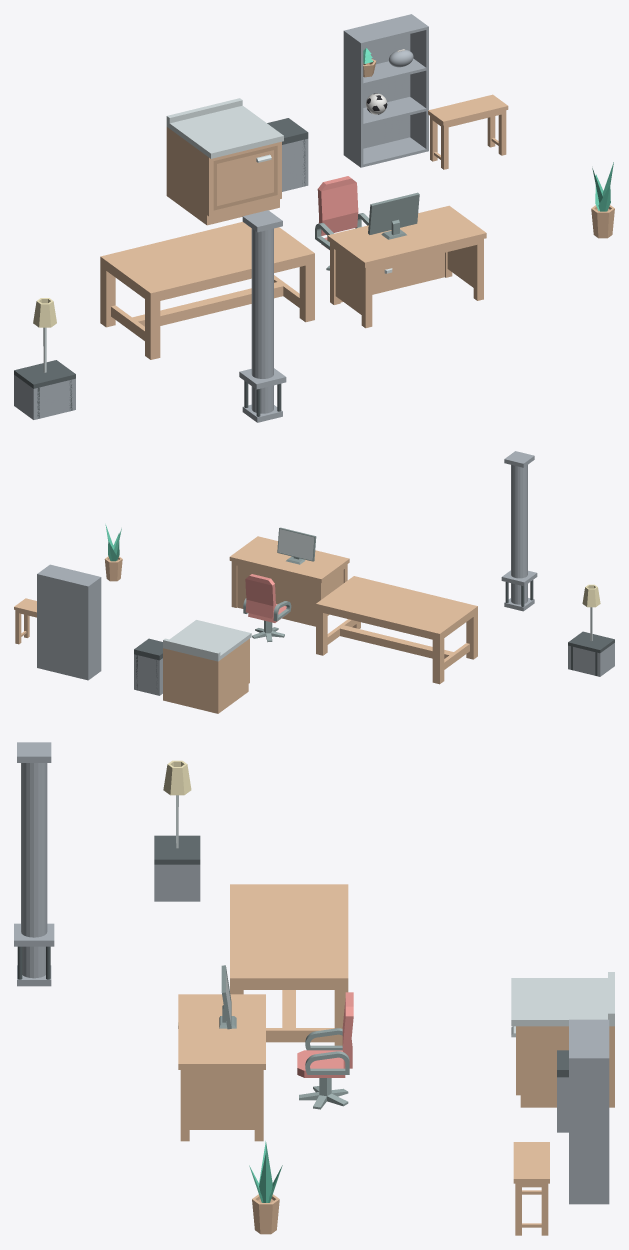
The picture shows the model from 3 angles, top to bottom: view 1: azimuth 30°, elevation 25°; view 2: azimuth 150°, elevation 25°; view 3: azimuth 270°, elevation 25°; orthographic projection. The views are drawn at different scales.
Parts seen in each view (by area): view 1: table_green__table(Clone), desk_blue__desk(Clone), cabinet_blue__kitchenCabinet(Clone), column_cyan__column_cyan shaft, cabinet_blue__door, sidetable_brown__sideTable(Clone), shelf_orange__shelf_orange back, shelf_orange__shelf_orange side_l, deskchair_black__chair, crate_red__crate_red shell, shelf_orange__shelf_orange side_r, monitor_gray__computerScreen(Clone) (+10 smaller); view 2: table_green__table(Clone), cabinet_blue__kitchenCabinet(Clone), desk_blue__desk(Clone), shelf_orange__shelf_orange back, column_cyan__column_cyan shaft, deskchair_black__chair, shelf_orange__shelf_orange side_l, monitor_gray__computerScreen(Clone), crate_red__crate_red shell, bin_gray__bin_gray shell, sidetable_brown__sideTable(Clone), shelf_orange__shelf_orange board3 (+4 smaller); view 3: table_green__table(Clone), desk_blue__desk(Clone), cabinet_blue__kitchenCabinet(Clone), shelf_orange__shelf_orange side_r, column_cyan__column_cyan shaft, sidetable_brown__sideTable(Clone), deskchair_black__chair, crate_red__crate_red shell, crate_red__crate_red lid, shelf_orange__shelf_orange board3, lamp_white__lampRoundFloor(Clone), plant_pink__pottedPlant(Clone) (+5 smaller).
Part boxes in pixels (left/top/right/bottom): table_green__table(Clone): left=100, top=221, right=314, bottom=359; desk_blue__desk(Clone): left=327, top=205, right=486, bottom=328; cabinet_blue__kitchenCabinet(Clone): left=166, top=98, right=283, bottom=225; column_cyan__column_cyan shaft: left=251, top=228, right=273, bottom=413; cabinet_blue__door: left=213, top=145, right=277, bottom=210; sidetable_brown__sideTable(Clone): left=428, top=94, right=508, bottom=169; shelf_orange__shelf_orange back: left=346, top=15, right=410, bottom=148; shelf_orange__shelf_orange side_l: left=343, top=30, right=363, bottom=167; deskchair_black__chair: left=315, top=176, right=368, bottom=249; crate_red__crate_red shell: left=14, top=375, right=75, bottom=419; shelf_orange__shelf_orange side_r: left=409, top=14, right=428, bottom=151; monitor_gray__computerScreen(Clone): left=368, top=192, right=419, bottom=239; table_green__table(Clone): left=316, top=576, right=477, bottom=684; cabinet_blue__kitchenCabinet(Clone): left=163, top=620, right=251, bottom=713; desk_blue__desk(Clone): left=229, top=536, right=349, bottom=626; shelf_orange__shelf_orange back: left=39, top=574, right=86, bottom=679; column_cyan__column_cyan shaft: left=511, top=465, right=527, bottom=604; deskchair_black__chair: left=243, top=574, right=291, bottom=622; shelf_orange__shelf_orange side_l: left=86, top=576, right=101, bottom=680; monitor_gray__computerScreen(Clone): left=277, top=527, right=316, bottom=564; crate_red__crate_red shell: left=568, top=643, right=614, bottom=676; bin_gray__bin_gray shell: left=134, top=654, right=162, bottom=695; sidetable_brown__sideTable(Clone): left=14, top=598, right=36, bottom=644; shelf_orange__shelf_orange board3: left=40, top=565, right=98, bottom=585; table_green__table(Clone): left=230, top=884, right=348, bottom=1045; desk_blue__desk(Clone): left=178, top=994, right=265, bottom=1141; cabinet_blue__kitchenCabinet(Clone): left=511, top=972, right=614, bottom=1107; shelf_orange__shelf_orange side_r: left=569, top=1057, right=609, bottom=1204; column_cyan__column_cyan shaft: left=21, top=763, right=47, bottom=978; sidetable_brown__sideTable(Clone): left=513, top=1142, right=549, bottom=1235; deskchair_black__chair: left=297, top=992, right=353, bottom=1077; crate_red__crate_red shell: left=154, top=864, right=200, bottom=901; crate_red__crate_red lid: left=154, top=835, right=200, bottom=864; shelf_orange__shelf_orange board3: left=569, top=1021, right=606, bottom=1056; lamp_white__lampRoundFloor(Clone): left=163, top=760, right=191, bottom=848; plant_pink__pottedPlant(Clone): left=252, top=1194, right=279, bottom=1234.
Size of the model in its own units: 7.39 by 2.2 by 5.22.
